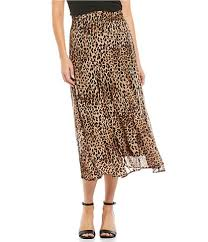C_skirt: (58, 6, 165, 188)
